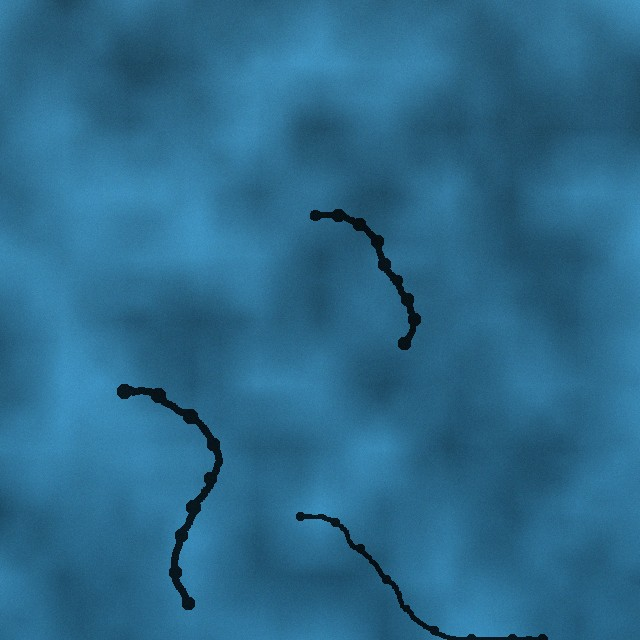crack: (296, 511, 550, 639), (117, 382, 226, 610), (305, 208, 420, 349)
